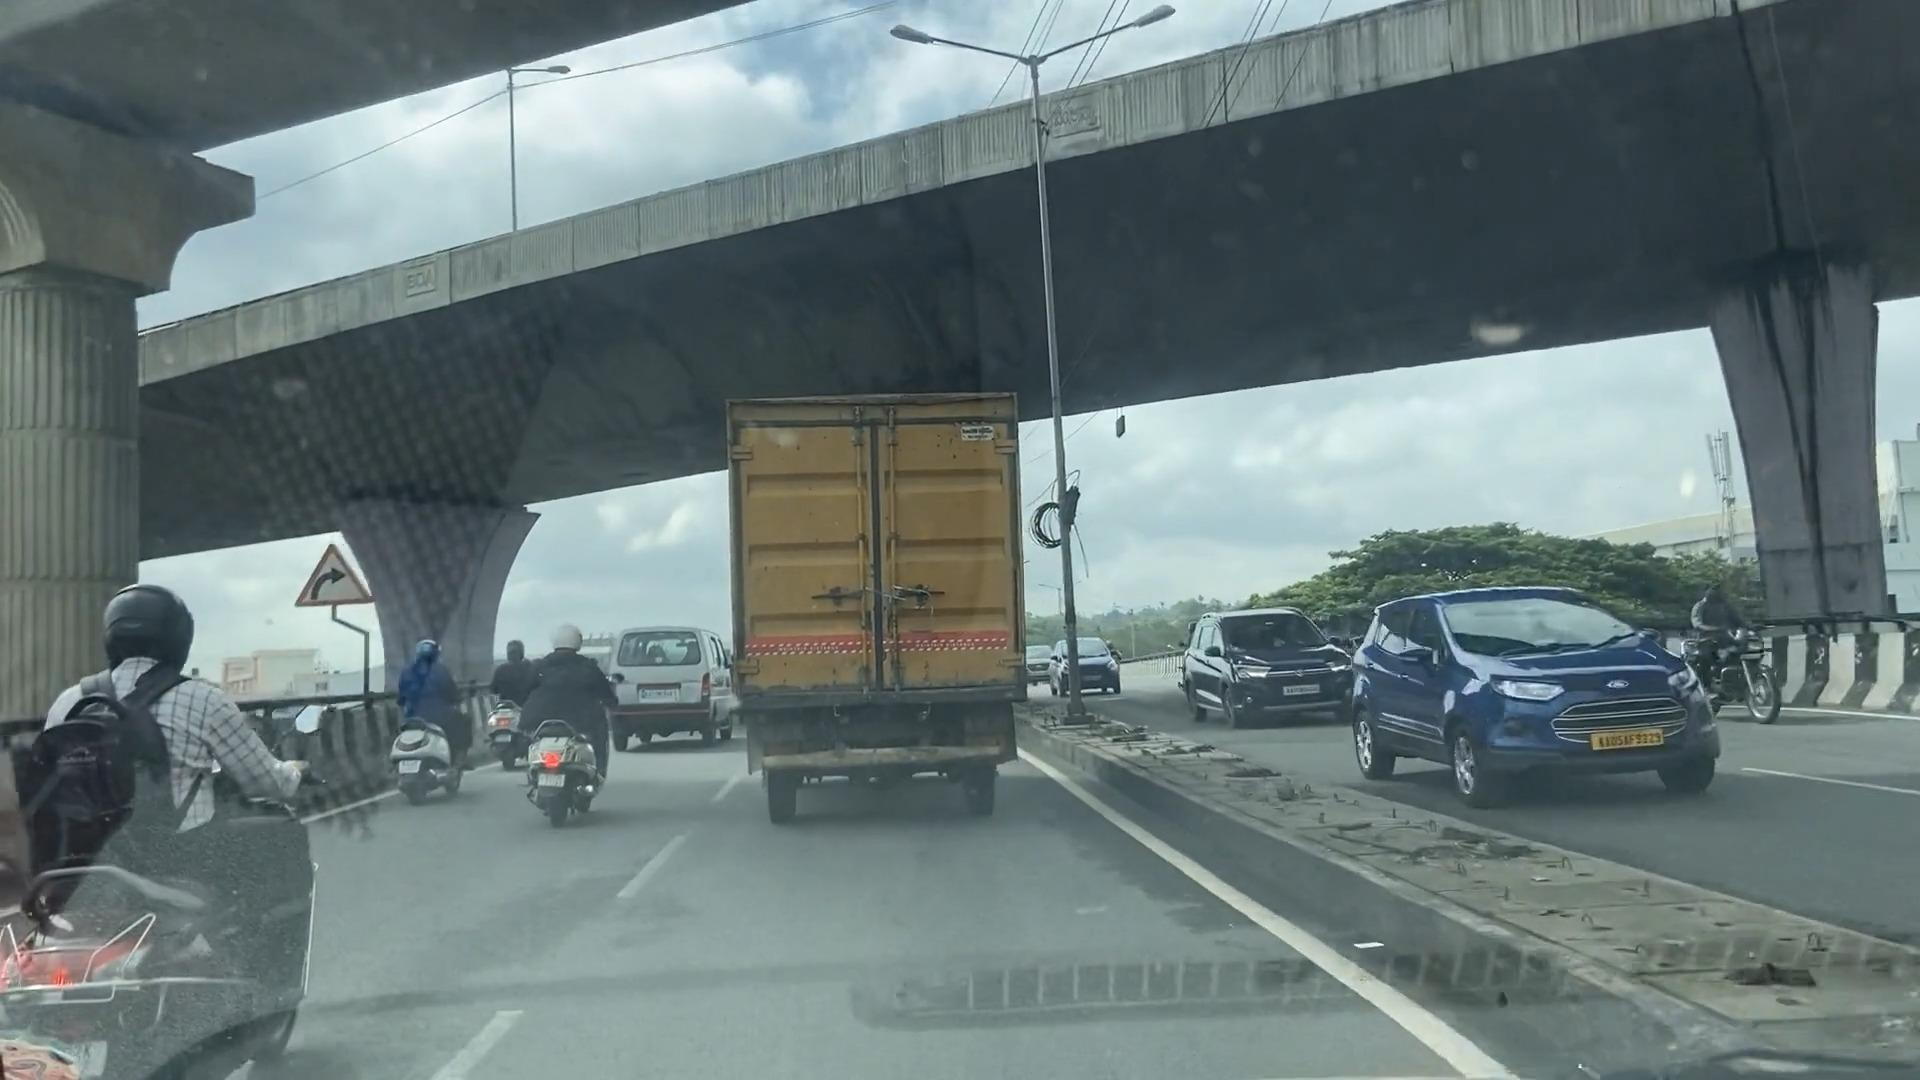HMV: (724, 384, 1034, 848)
LMV: (0, 607, 301, 1080), (513, 596, 628, 823), (397, 613, 471, 794)
